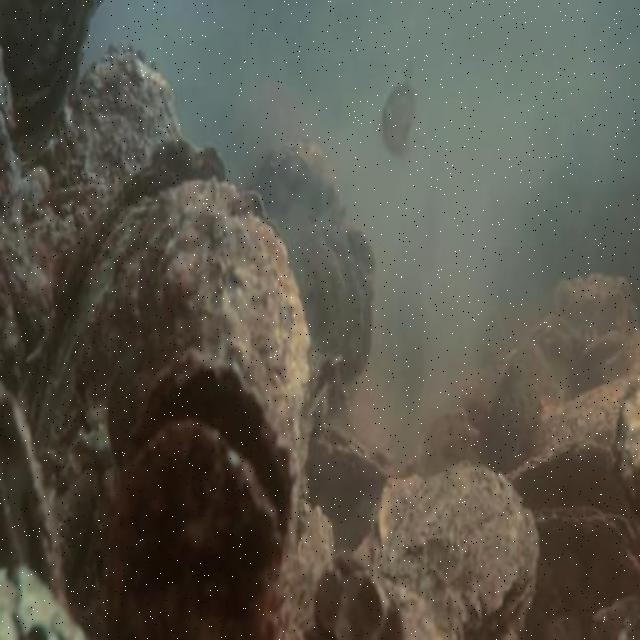Oyster-Closed: (138, 178, 311, 442), (249, 147, 375, 389), (367, 463, 539, 640), (52, 53, 182, 227), (531, 496, 638, 638), (511, 435, 626, 506)
Oyster-Open: (31, 136, 223, 468), (112, 356, 296, 637), (0, 0, 95, 152)
